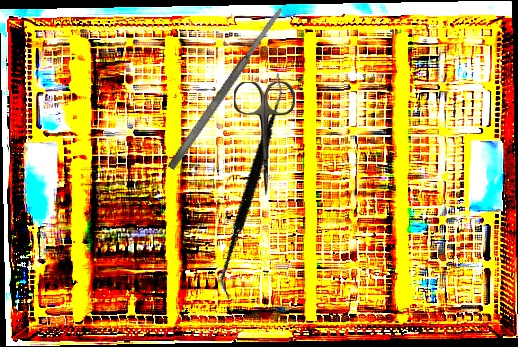Iris Scissors: (234, 82, 295, 195)
Spatula Surgical: (168, 72, 338, 301), (165, 5, 287, 172)
